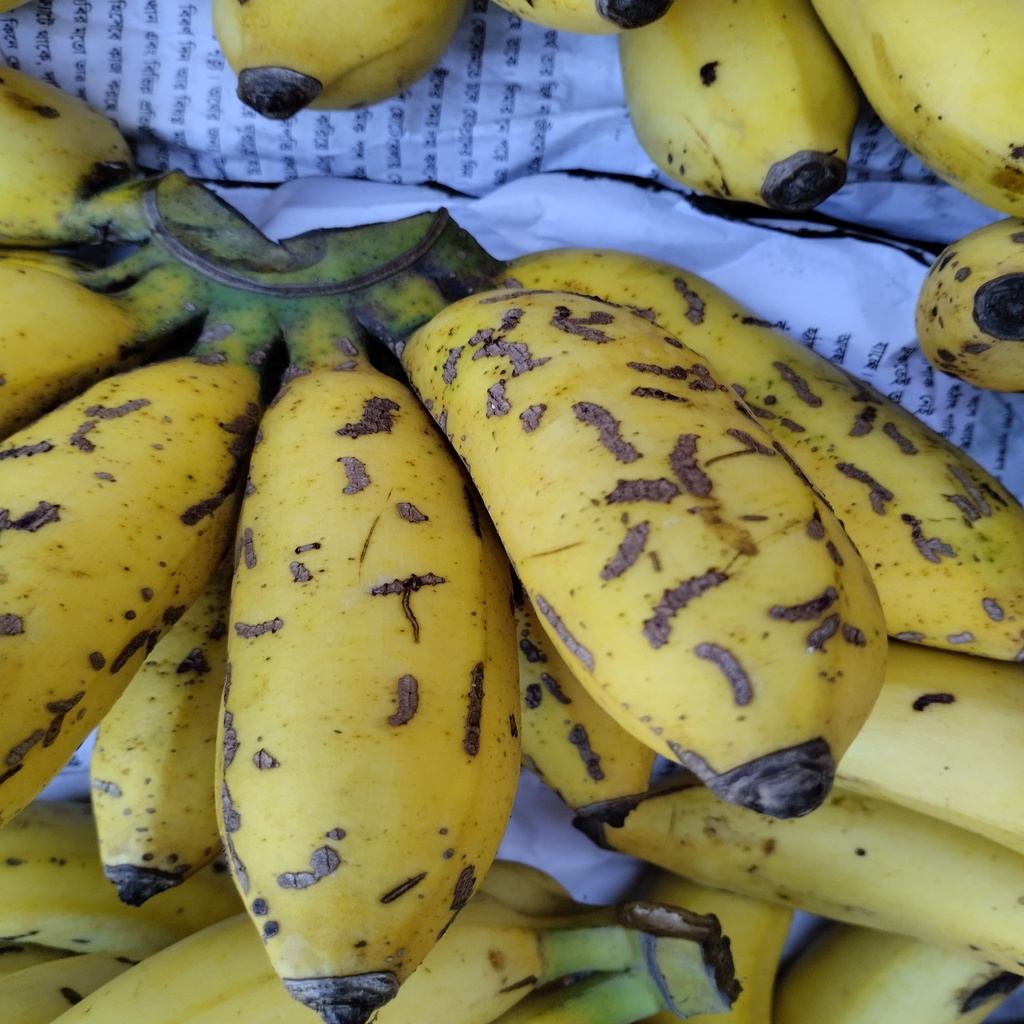unhealthy: (385, 289, 888, 809), (214, 361, 520, 1009)
